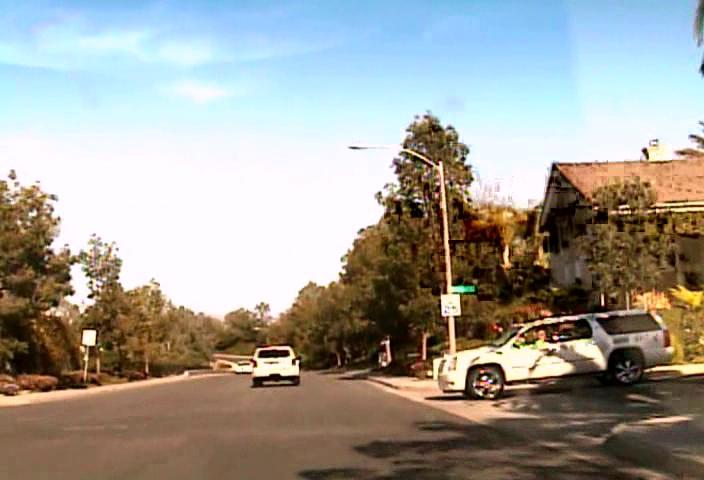speedLimit25: (440, 293, 461, 317)
